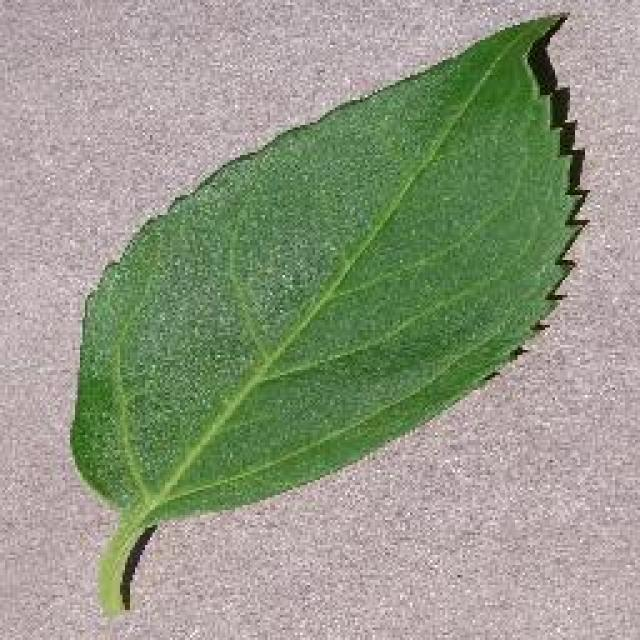Cherry___healthy: (89, 4, 599, 513)
